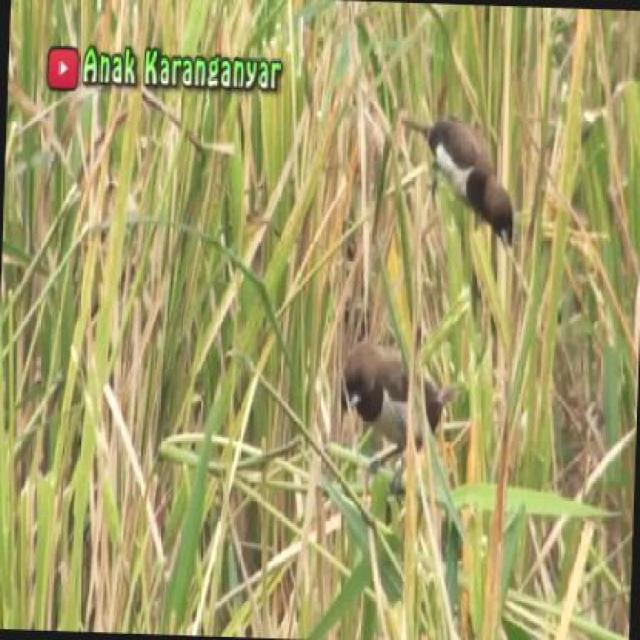Bird: (319, 309, 454, 481), (387, 101, 530, 255)
